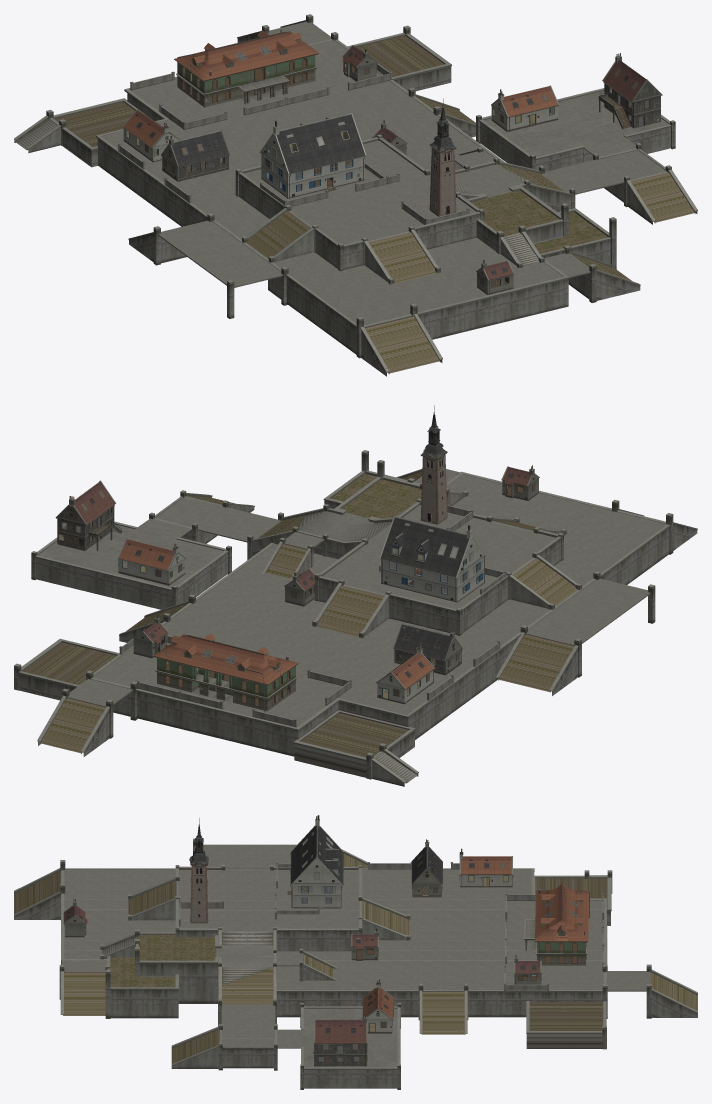
3 renders of one model, top to bottom at view 1: azimuth 30°, elevation 25°; view 2: azimuth 150°, elevation 25°; view 3: azimuth 270°, elevation 25°, orthographic. The views are drawn at different scales.
Size of the model in its own units: 119 by 37.6 by 155.
Materials: 1 (1 with a texture image).
